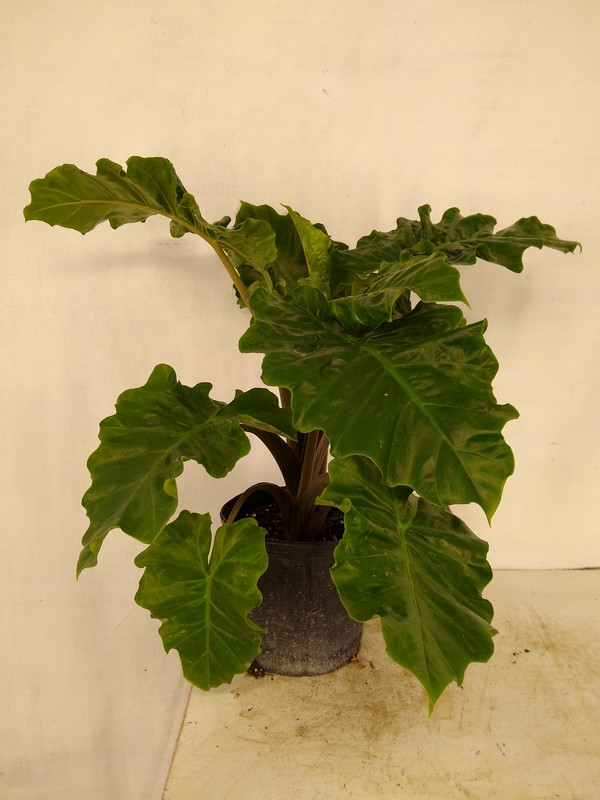plant: (22, 155, 582, 718)
pot: (219, 493, 366, 679)
